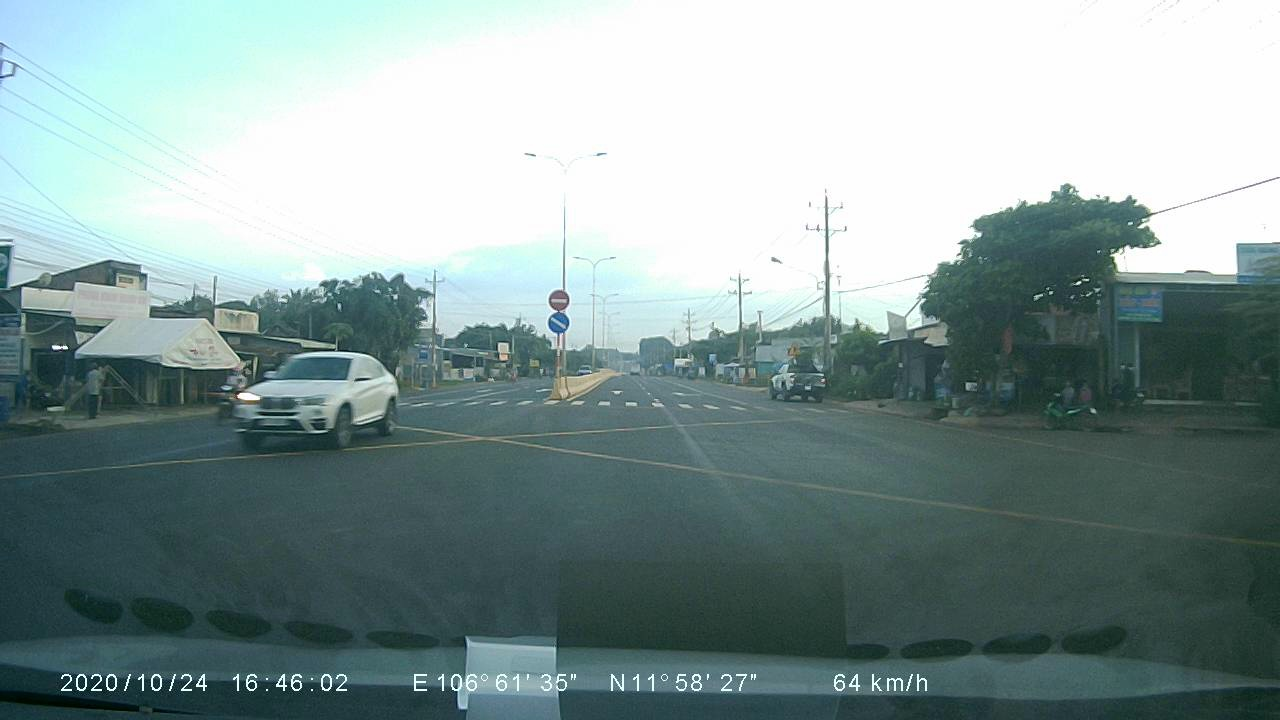Cam di nguoc chieu: (546, 286, 572, 312)
Huong di phai re phai: (544, 308, 573, 334)
